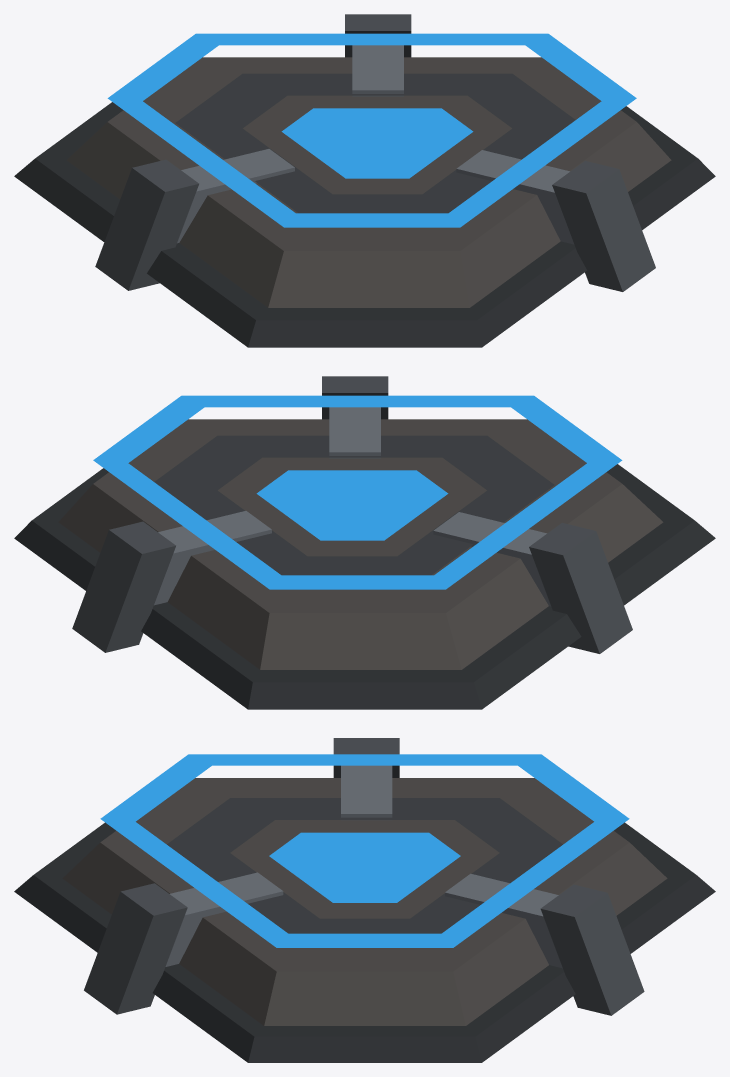
The model's file is Model_Teleport.fbx.
The picture shows the model from 3 angles, top to bottom: view 1: azimuth 30°, elevation 25°; view 2: azimuth 150°, elevation 25°; view 3: azimuth 270°, elevation 25°; orthographic projection.
Parts seen in each view (by area): view 1: zhuchangjing_chuansongmen, zhuchangjing_guangquan, zhuchangjing_guangdian; view 2: zhuchangjing_chuansongmen, zhuchangjing_guangquan, zhuchangjing_guangdian; view 3: zhuchangjing_chuansongmen, zhuchangjing_guangquan, zhuchangjing_guangdian.
Part boxes in pixels (x1,y1,x2,y2): zhuchangjing_chuansongmen: (14,14,715,347); zhuchangjing_guangquan: (107,33,636,227); zhuchangjing_guangdian: (281,108,473,178); zhuchangjing_chuansongmen: (14,376,715,709); zhuchangjing_guangquan: (93,395,622,589); zhuchangjing_guangdian: (256,470,448,540); zhuchangjing_chuansongmen: (14,738,715,1062); zhuchangjing_guangquan: (100,754,629,947); zhuchangjing_guangdian: (269,832,460,902).
Size of the model in its own units: 360 by 60.83 by 402.
